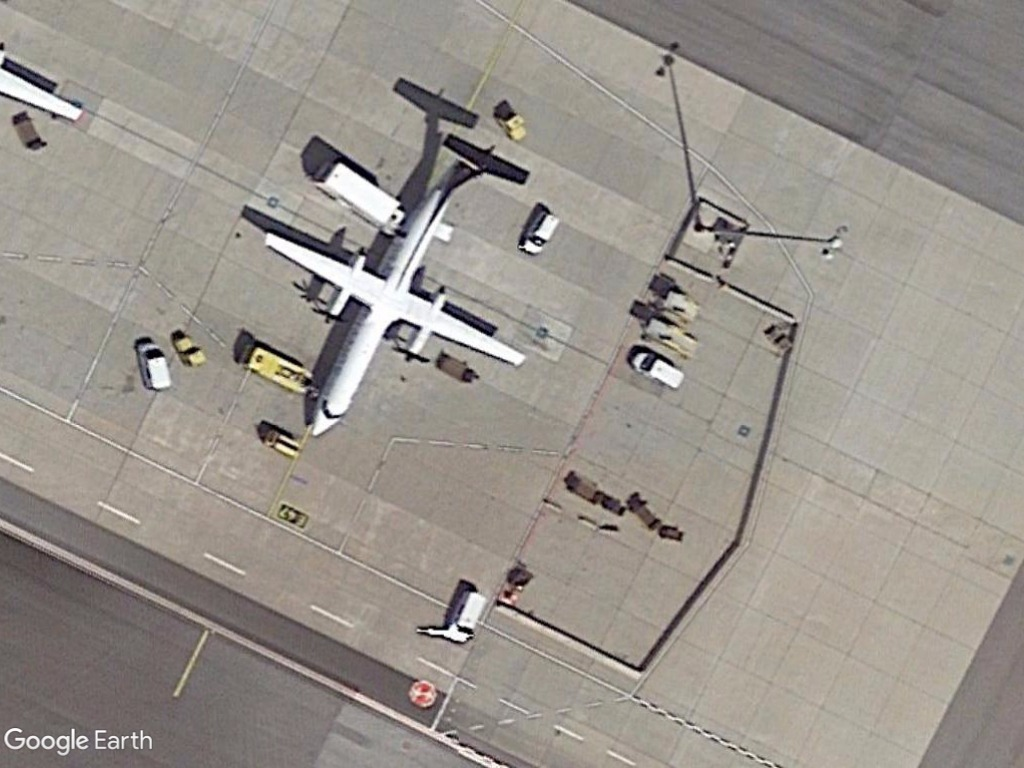propeller: (258, 130, 534, 442)
van: (624, 348, 692, 394), (444, 584, 490, 645), (135, 339, 175, 393), (522, 207, 563, 256)
